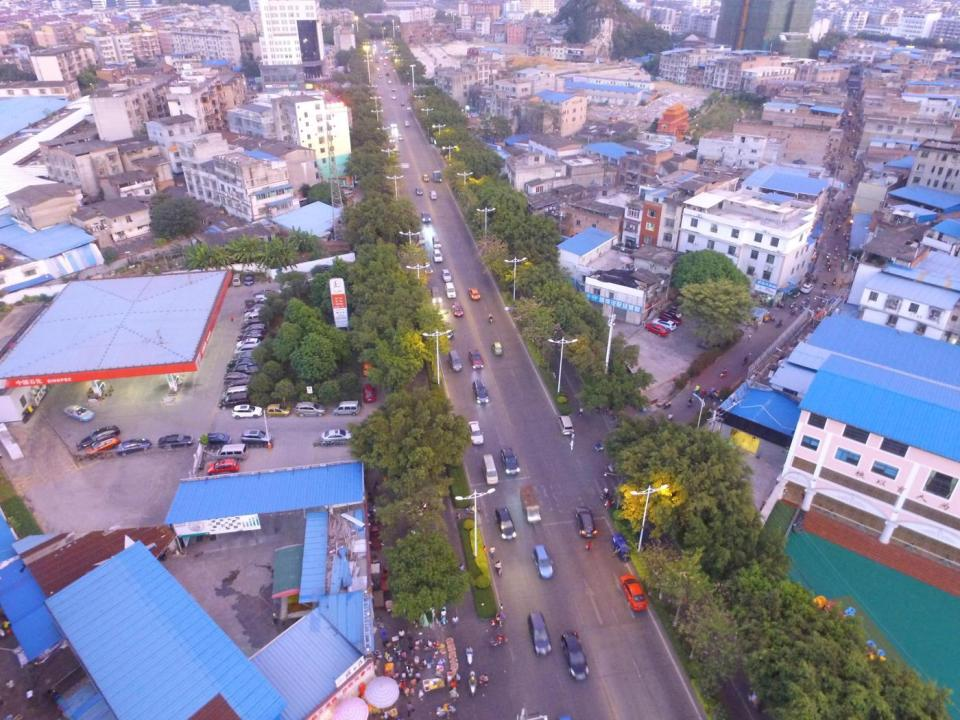bus: (432, 169, 444, 181)
car: (560, 631, 589, 681), (621, 574, 647, 612), (80, 426, 120, 448), (532, 543, 555, 580), (84, 434, 120, 457), (494, 506, 516, 540), (573, 506, 596, 538), (63, 402, 95, 422), (115, 438, 152, 454), (500, 445, 520, 474), (207, 458, 238, 476), (157, 433, 193, 448), (320, 428, 357, 442), (233, 403, 264, 419), (228, 358, 262, 372), (468, 420, 485, 446), (473, 380, 491, 404), (235, 336, 264, 350), (204, 431, 231, 446), (222, 372, 256, 383), (231, 349, 262, 361), (362, 382, 377, 405), (468, 348, 485, 368), (644, 323, 668, 337), (651, 317, 675, 330), (245, 306, 272, 317), (241, 324, 268, 335), (362, 355, 374, 378), (660, 312, 681, 325), (266, 404, 290, 415), (253, 289, 278, 299), (244, 304, 274, 312), (241, 317, 266, 326), (225, 379, 254, 386), (491, 343, 505, 357), (452, 302, 464, 318), (799, 282, 814, 294), (668, 306, 684, 317), (468, 286, 480, 300), (244, 274, 255, 285), (442, 267, 450, 282), (416, 186, 423, 197), (421, 174, 429, 181), (398, 135, 404, 143), (846, 110, 852, 116), (404, 122, 409, 128), (628, 66, 635, 70), (633, 70, 640, 74), (393, 93, 397, 99), (640, 66, 646, 70), (645, 70, 649, 75), (388, 78, 391, 84), (387, 71, 390, 76), (401, 102, 406, 105), (379, 75, 383, 78), (392, 88, 396, 90), (618, 62, 622, 64), (629, 63, 632, 64)
van: (528, 610, 551, 656), (518, 484, 542, 523), (218, 392, 250, 409), (216, 444, 248, 461), (612, 534, 632, 560), (242, 428, 274, 444), (482, 454, 498, 485), (295, 401, 326, 416), (334, 400, 360, 415), (448, 348, 462, 373), (559, 414, 574, 437), (222, 386, 252, 397), (445, 281, 455, 299), (432, 250, 444, 263), (231, 272, 242, 285), (432, 237, 440, 249), (420, 212, 430, 221), (429, 192, 436, 199)
